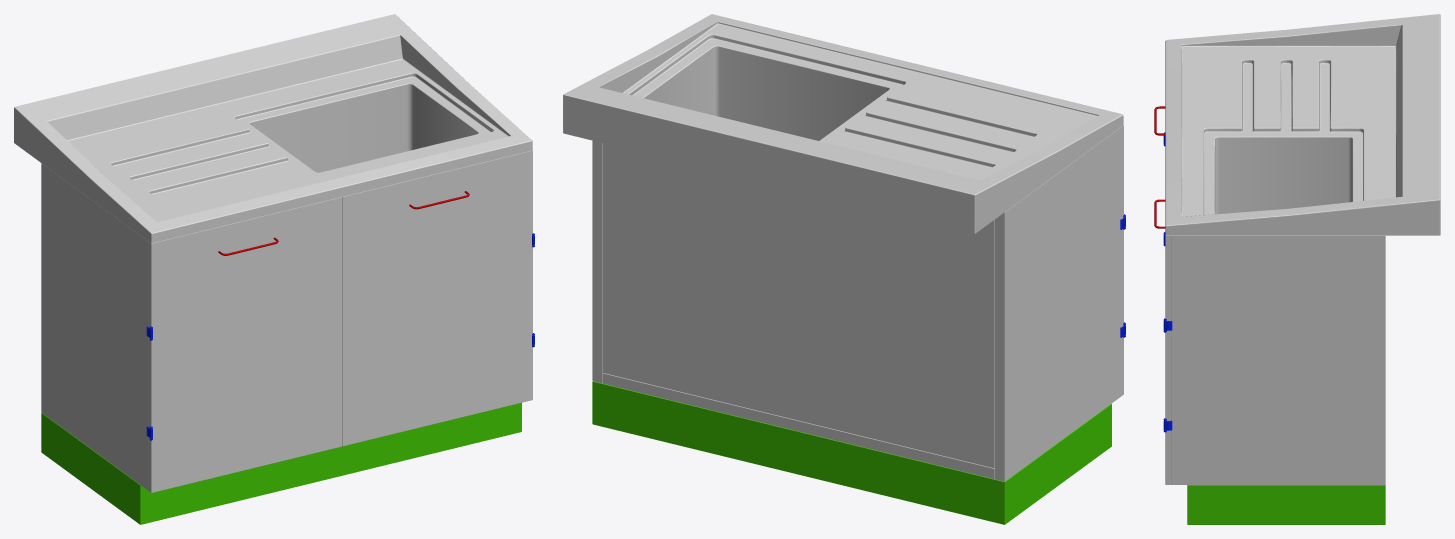
Rendered from SinkBench01c.fbx.
3 views of the same model, side by side, from view 1: azimuth 30°, elevation 25°; view 2: azimuth 150°, elevation 25°; view 3: azimuth 270°, elevation 25° (orthographic). The views are drawn at different scales.
Visible parts, largest first — view 1: Sink, Drawer01, Drawer02, SinkBench01c; view 2: SinkBench01c, Sink, Drawer01; view 3: SinkBench01c, Sink, Drawer02.
Boxes of the visible parts, box(x1,y1,x2,y2) form: Sink: box(14, 14, 532, 243); Drawer01: box(148, 197, 341, 492); Drawer02: box(342, 150, 532, 446); SinkBench01c: box(41, 163, 534, 524); SinkBench01c: box(592, 127, 1125, 524); Sink: box(563, 14, 1123, 233); Drawer01: box(1121, 125, 1123, 396); SinkBench01c: box(1163, 132, 1385, 524); Sink: box(1165, 14, 1440, 235); Drawer02: box(1154, 199, 1170, 484).
Bounding box in the file's own units: 101 × 65 × 81.53.
